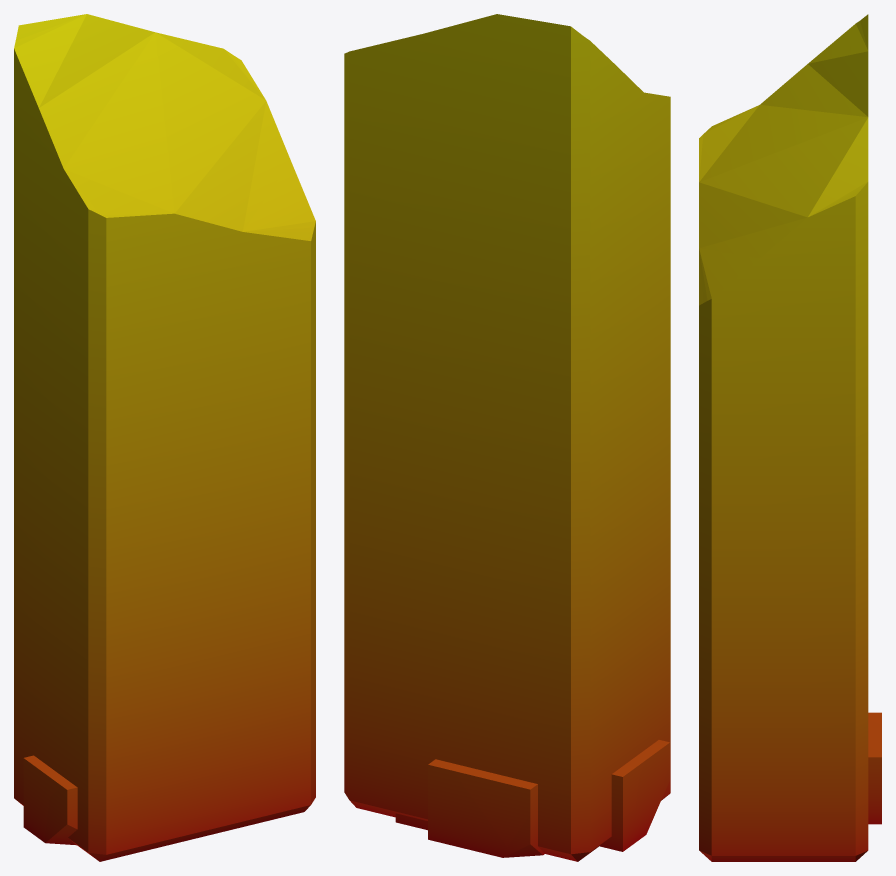
File: standing_stone_broken.glb
3 renders of one model, left to right at view 1: azimuth 30°, elevation 25°; view 2: azimuth 150°, elevation 25°; view 3: azimuth 270°, elevation 25°, orthographic. The views are drawn at different scales.
Parts seen in each view (by area): view 1: standing_stone_broken; view 2: standing_stone_broken; view 3: standing_stone_broken.
Part boxes in pixels (x1,y1,x2,y2): standing_stone_broken: [14, 14, 315, 861]; standing_stone_broken: [344, 14, 670, 861]; standing_stone_broken: [699, 14, 881, 861].
Size of what is drawn, in the model's own units: 0.6272 by 1.96 by 0.4318.
